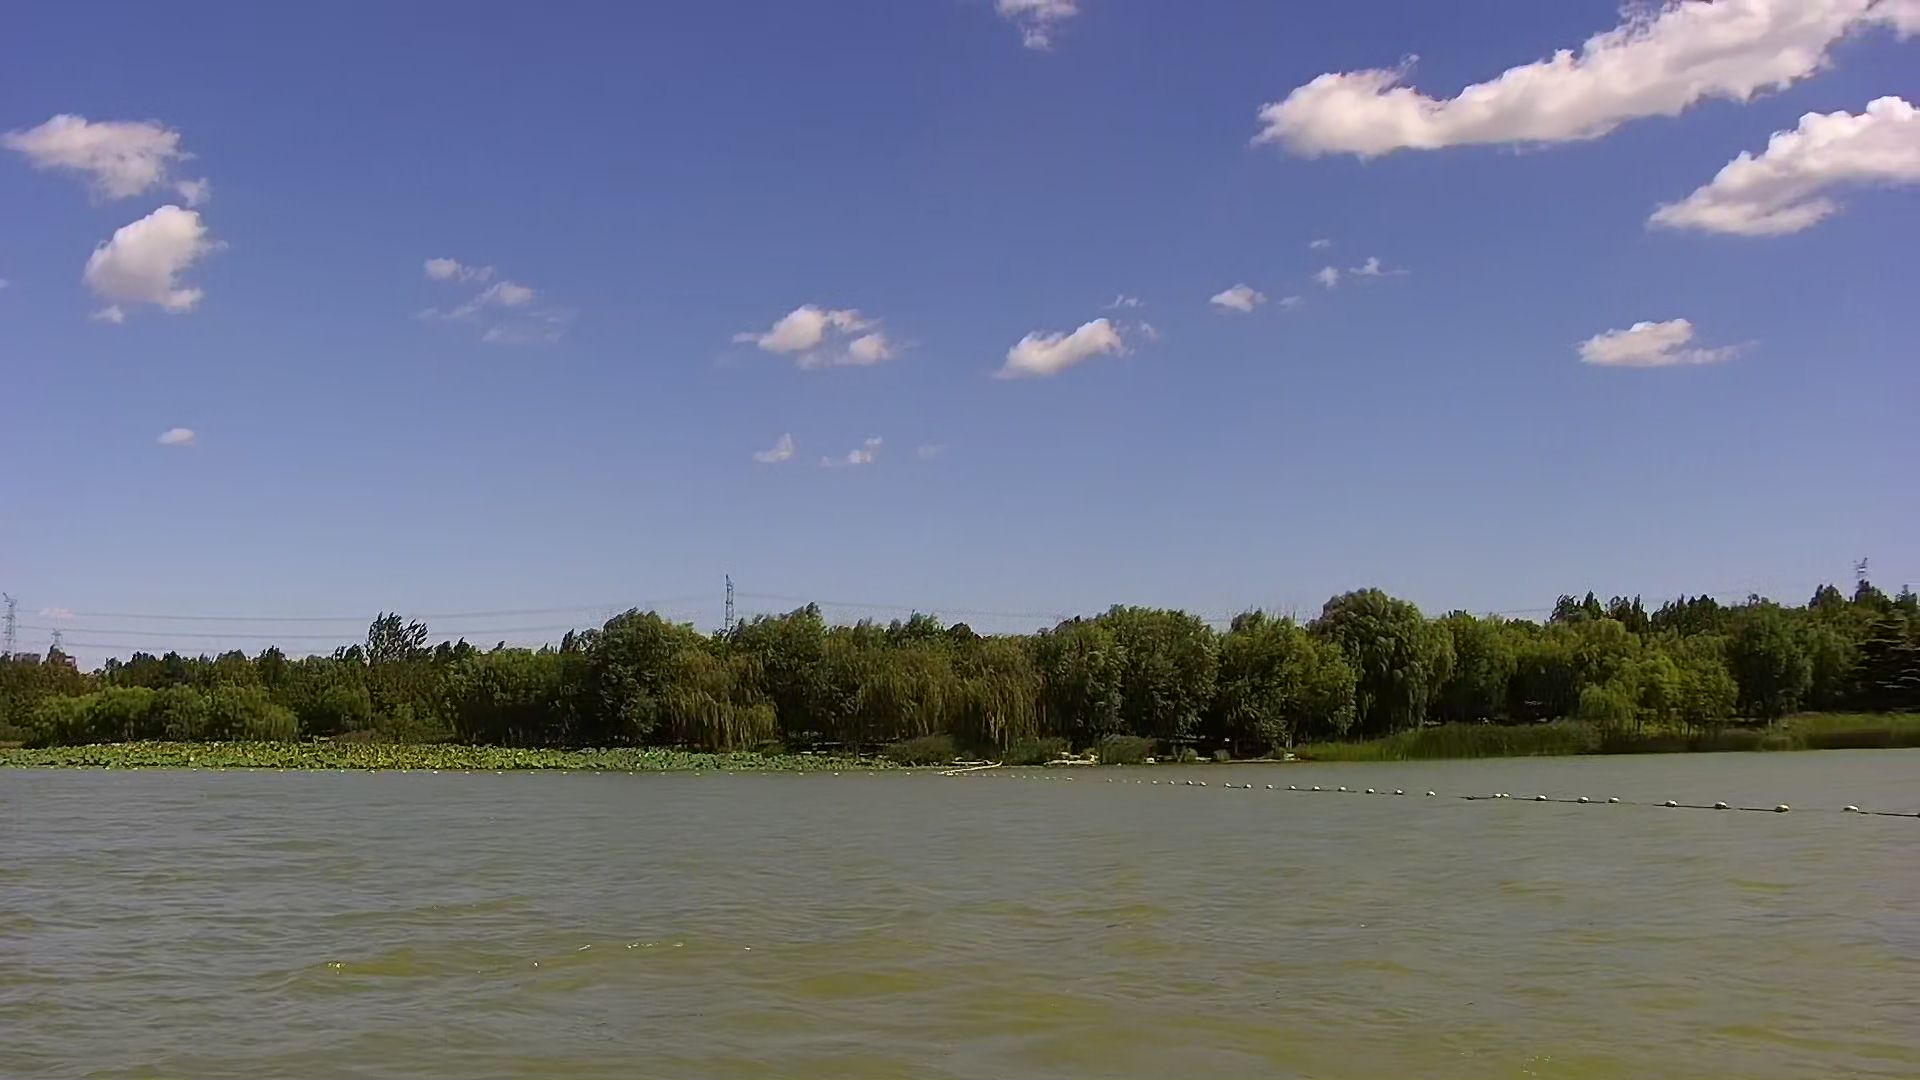ball: (1771, 789, 1801, 827), (1712, 789, 1743, 818), (1659, 782, 1683, 818)
